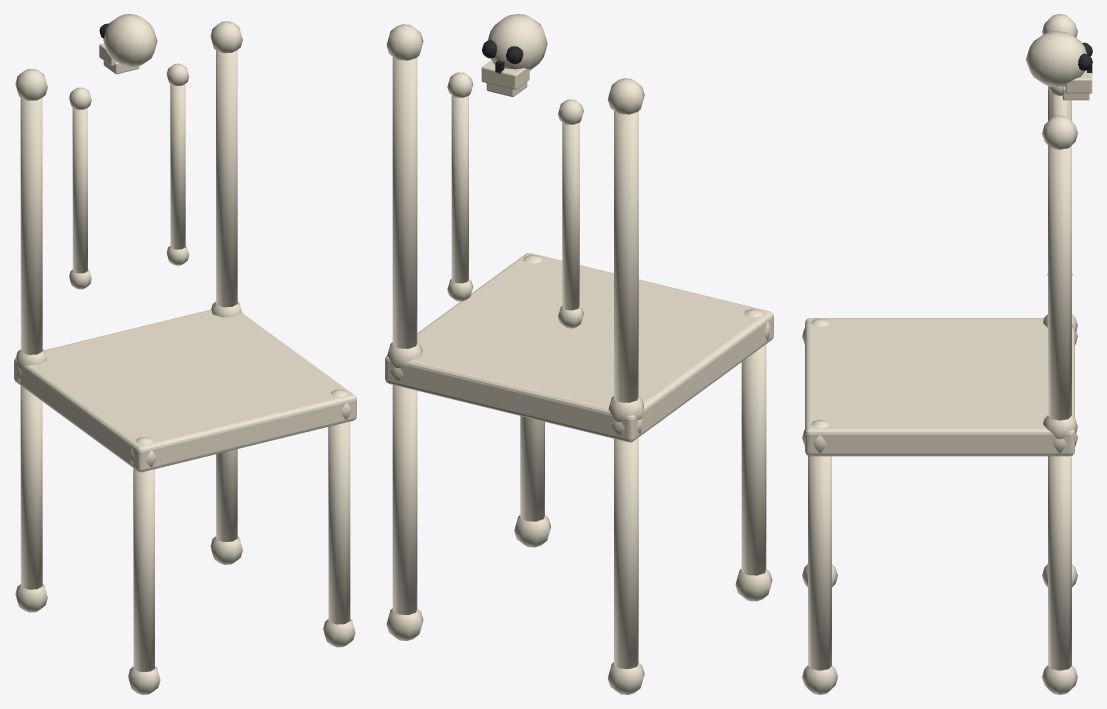
The model's file is chair_bone.glb.
3 views of the same model, side by side, from view 1: azimuth 30°, elevation 25°; view 2: azimuth 150°, elevation 25°; view 3: azimuth 270°, elevation 25° (orthographic). The views are drawn at different scales.
Parts seen in each view (by area): view 1: GD_chair_bone__m0; view 2: GD_chair_bone__m0, GD_chair_bone__m1; view 3: GD_chair_bone__m0.
Part boxes in pixels (<box>): GD_chair_bone__m0: <box>14,14,356,694</box>; GD_chair_bone__m0: <box>385,14,773,694</box>; GD_chair_bone__m1: <box>482,40,523,73</box>; GD_chair_bone__m0: <box>802,14,1092,694</box>.
Size of the model in its own units: 0.46 by 1.12 by 0.4849.
